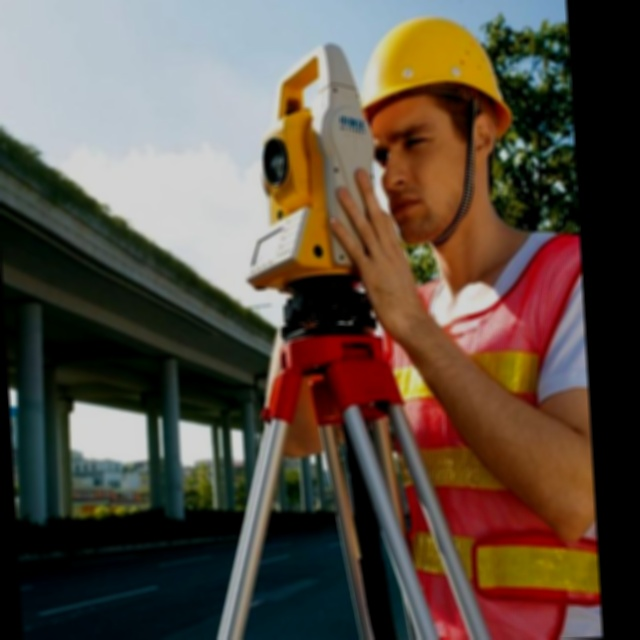Con_Casco: (354, 7, 518, 226)
Con_Chaleco: (372, 230, 602, 640)
